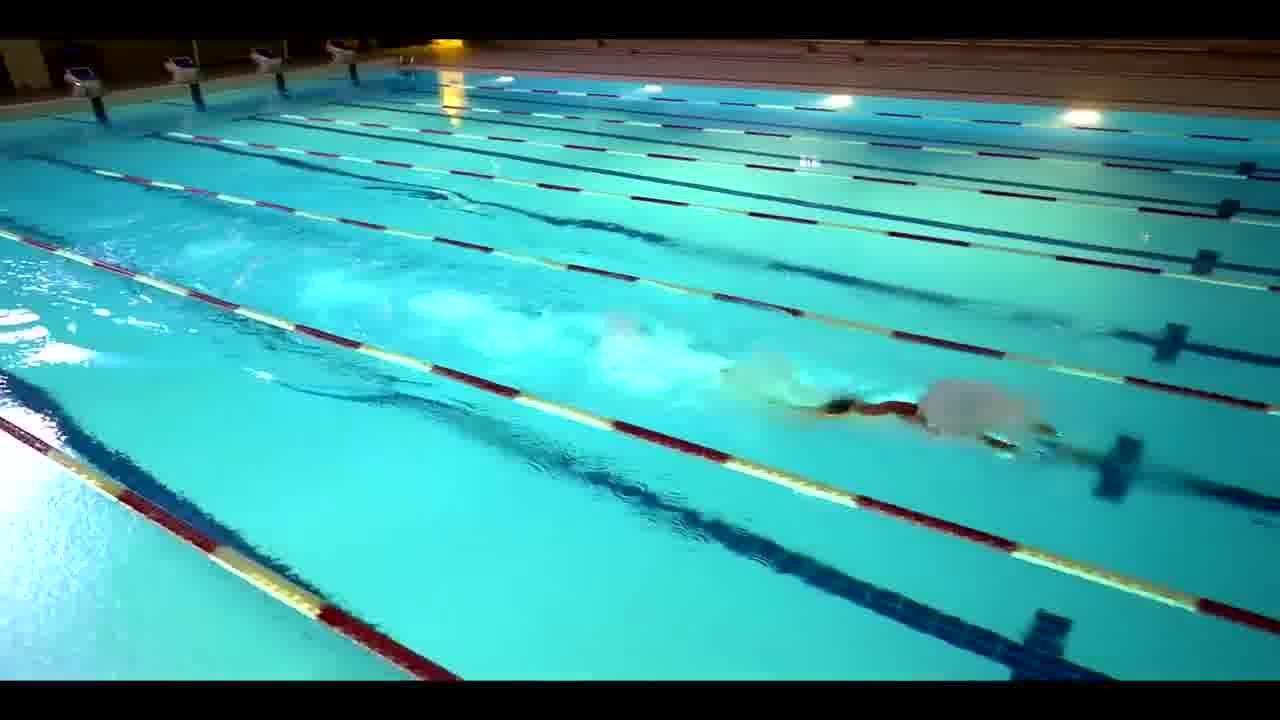swimmer: (819, 368, 1007, 458)
